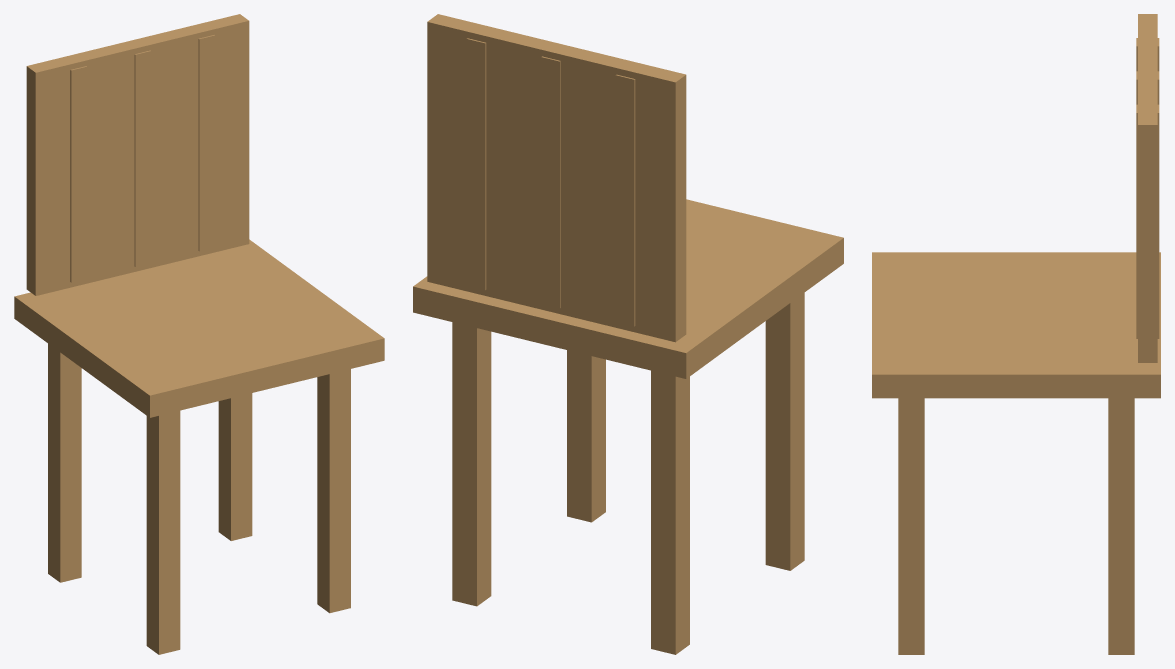
File: GH_Chair_Kitchen_01.glb
3 views of the same model, side by side, from view 1: azimuth 30°, elevation 25°; view 2: azimuth 150°, elevation 25°; view 3: azimuth 270°, elevation 25° (orthographic). The views are drawn at different scales.
Visible parts, largest first — view 1: GH_Chair_Kitchen_01; view 2: GH_Chair_Kitchen_01; view 3: GH_Chair_Kitchen_01.
Boxes of the visible parts, x1,y1,x2,y2 form: GH_Chair_Kitchen_01: (14,14,384,654); GH_Chair_Kitchen_01: (413,14,843,654); GH_Chair_Kitchen_01: (872,14,1160,654).
Size of the model in its own units: 0.44 by 0.9 by 0.44.
Materials: 1 (1 with a texture image).
